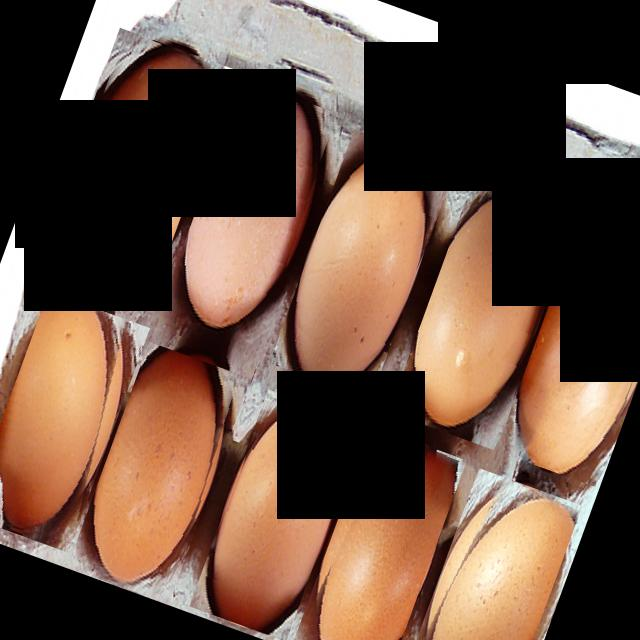eggs: (35, 28, 234, 303), (388, 182, 580, 451), (269, 129, 456, 400), (160, 80, 343, 346), (67, 342, 251, 604), (189, 389, 365, 640), (0, 291, 150, 553), (496, 220, 640, 488), (290, 426, 466, 640), (400, 468, 583, 640)
